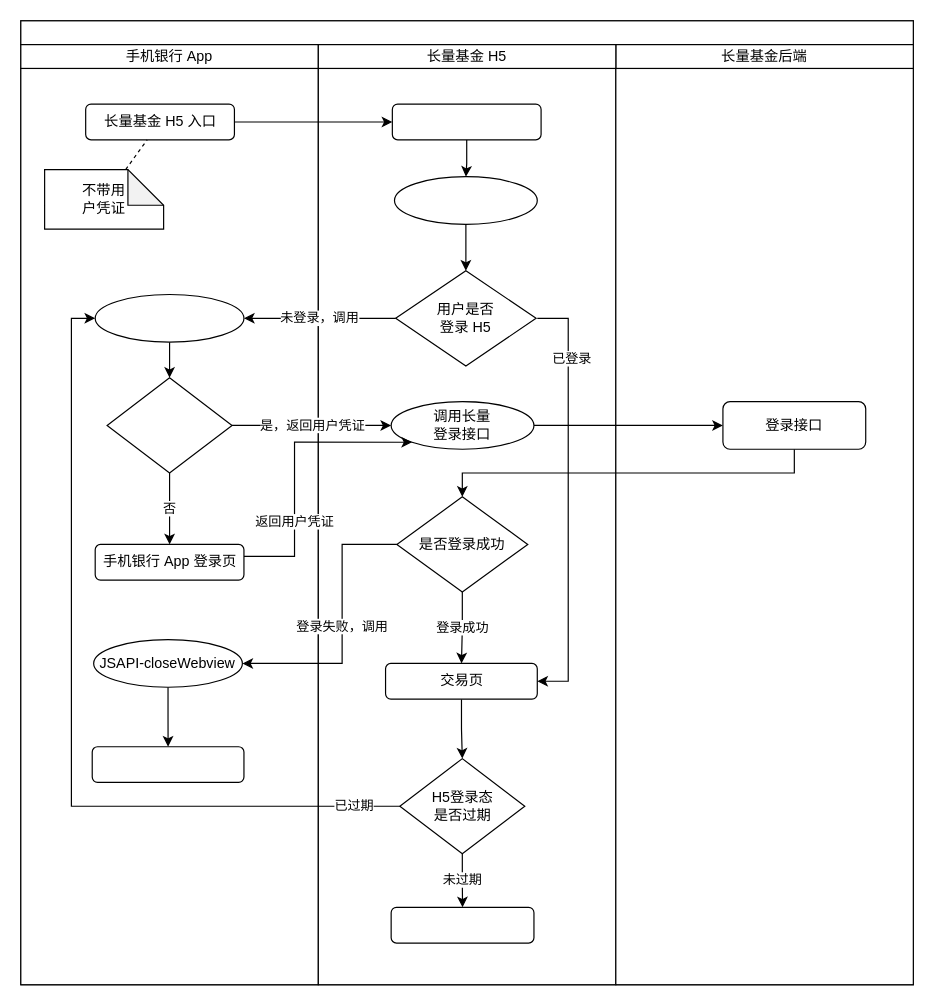
This 934x1006 diagram has some shape labels left out. The box of each missing label's shape, as (x1, y1, x2, y2) in pixels:
JSAPI-登录App: (94, 293, 244, 342)
手机银行 App 入口页: (91, 746, 244, 782)
正常流程: (390, 906, 534, 943)
点击交易页入口: (393, 176, 537, 224)
用户是否已 登录 App: (106, 377, 232, 473)
长量基金 H5 登录流程-方案2: (20, 20, 913, 45)
首页: (391, 103, 541, 140)
